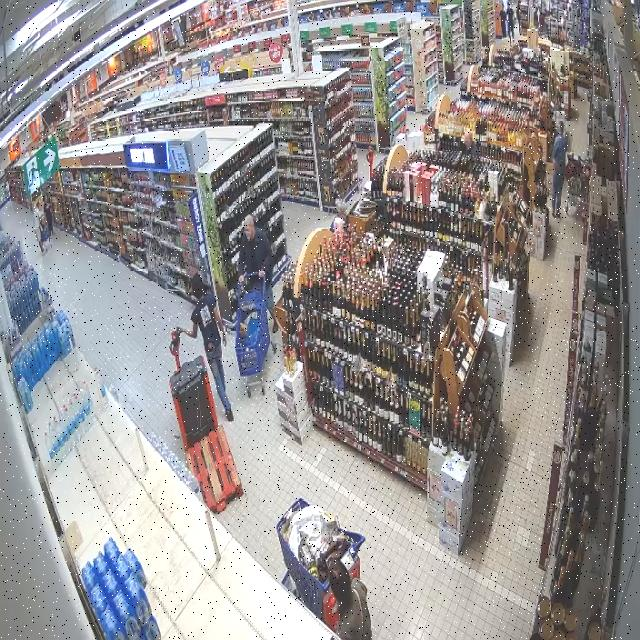hands: (222, 332, 227, 346), (176, 327, 183, 335), (239, 275, 244, 284), (259, 269, 264, 278)
person: (178, 274, 233, 421), (239, 215, 278, 333), (329, 559, 371, 639), (552, 122, 567, 217), (330, 199, 348, 232), (463, 129, 479, 156)
